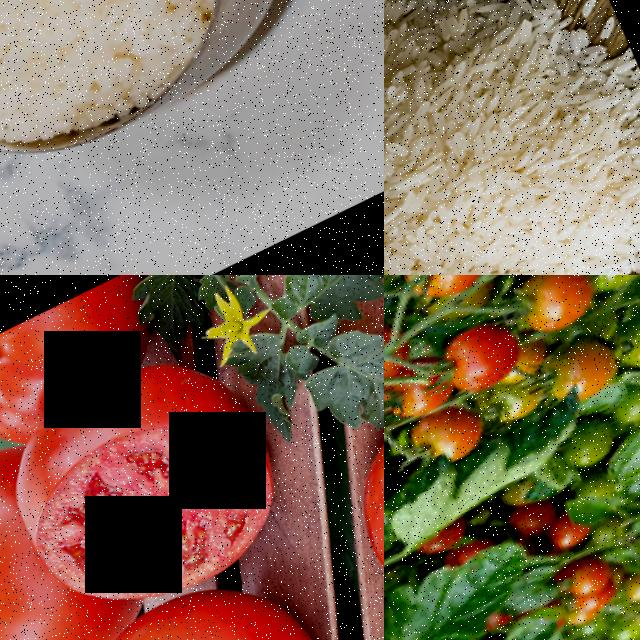tomato: (0, 324, 305, 640), (65, 547, 373, 640), (328, 373, 384, 640), (431, 315, 531, 410), (520, 330, 622, 418), (502, 275, 606, 351), (392, 275, 501, 318)
white rice: (384, 0, 640, 275), (0, 0, 265, 194)
